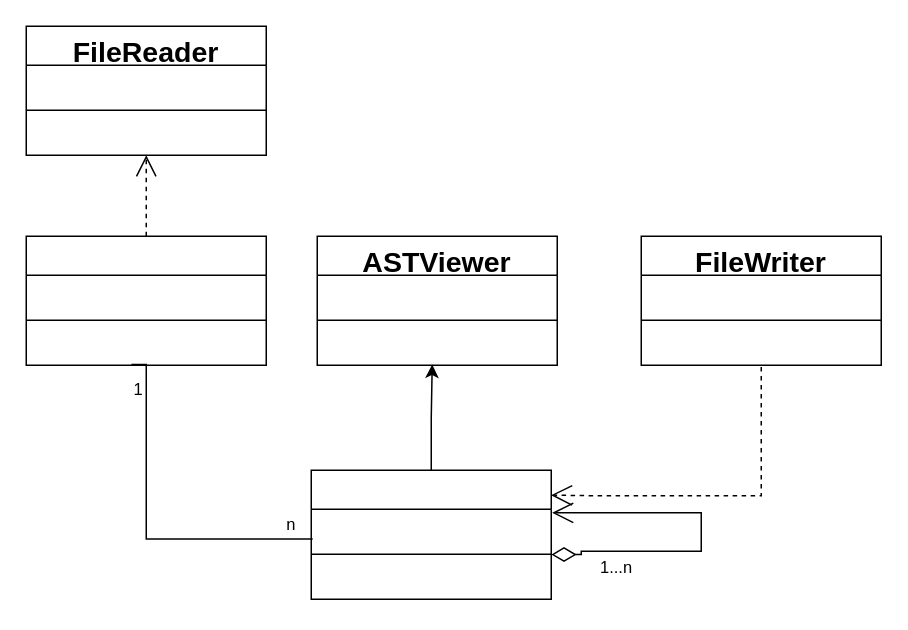
Image size: 908x630. Some labels were removed from this diagram. The box of each missing label's shape, as (x1, y1, x2, y2) in pixels:
AST: (310, 469, 551, 599)
Parser: (25, 235, 266, 365)
